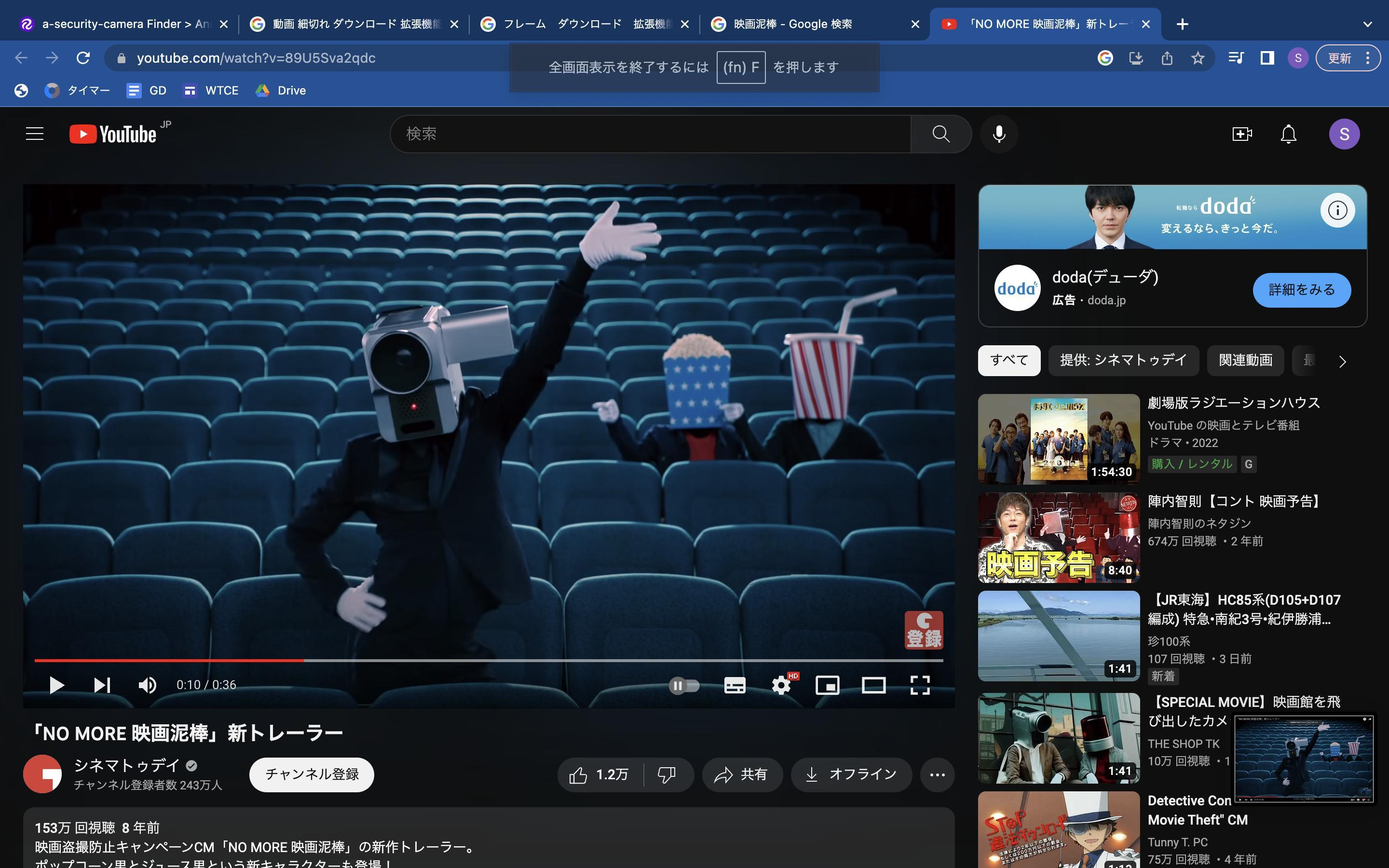no more kid: (360, 307, 522, 440)
